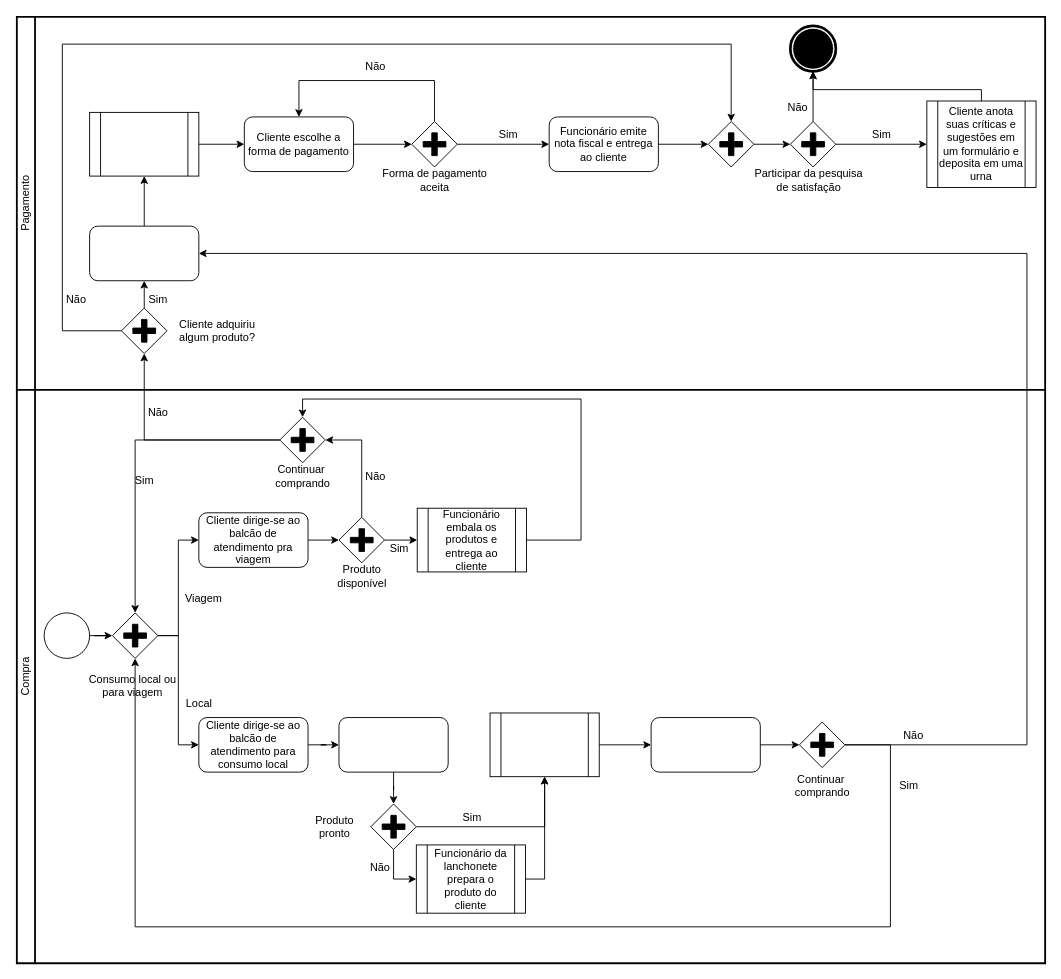
This 1061x979 diagram has some shape labels left out. Here are the shapes that lost their labels. From the top down, the box of each, then its label:
(89, 111, 199, 176): Funcionário contabiliza o valor final e embala os produtos
(89, 225, 199, 281): Cliente dirige-se à fila de pagamento
(338, 717, 448, 772): Cliente seleciona o produto
(489, 712, 599, 777): Funcionário da lanchonete entrega o produto ao cliente
(650, 717, 760, 772): Cliente se direciona para o local de consumo
